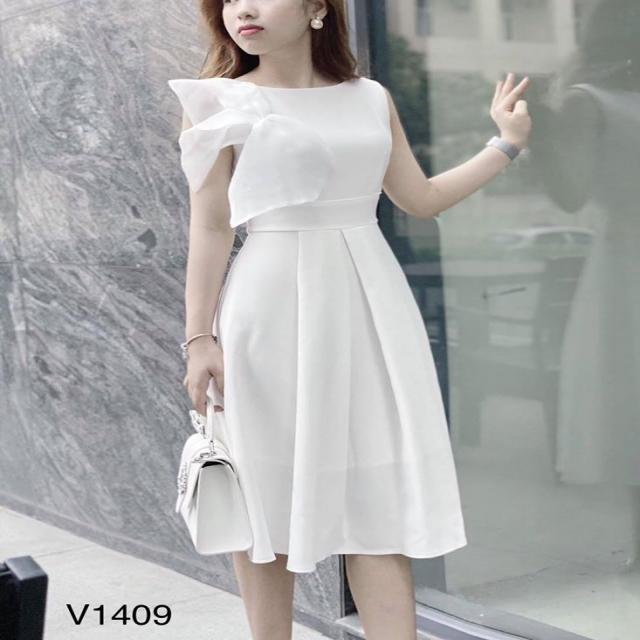clothes: (158, 61, 469, 573)
